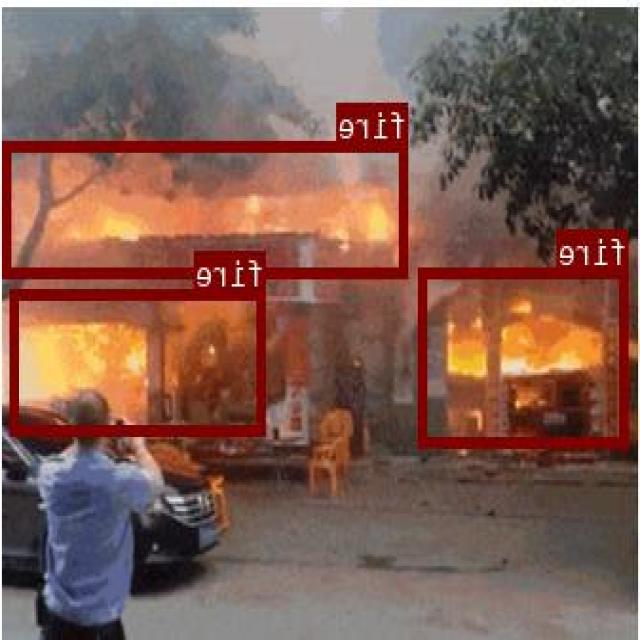fire: (6, 140, 409, 276), (13, 288, 267, 434), (422, 267, 630, 445)
